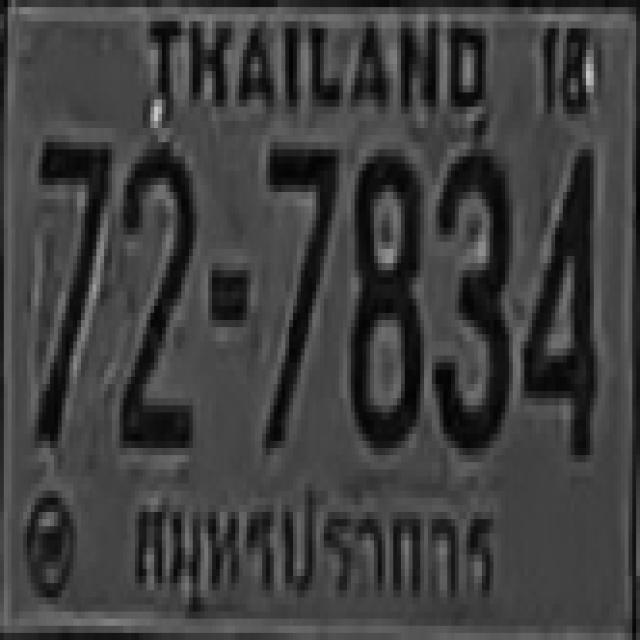2: (119, 138, 193, 444)
3: (432, 142, 509, 448)
4: (520, 142, 594, 455)
7: (33, 135, 110, 441), (264, 142, 337, 448)
8: (347, 146, 416, 444)
SamutPrakan: (121, 474, 510, 620)
